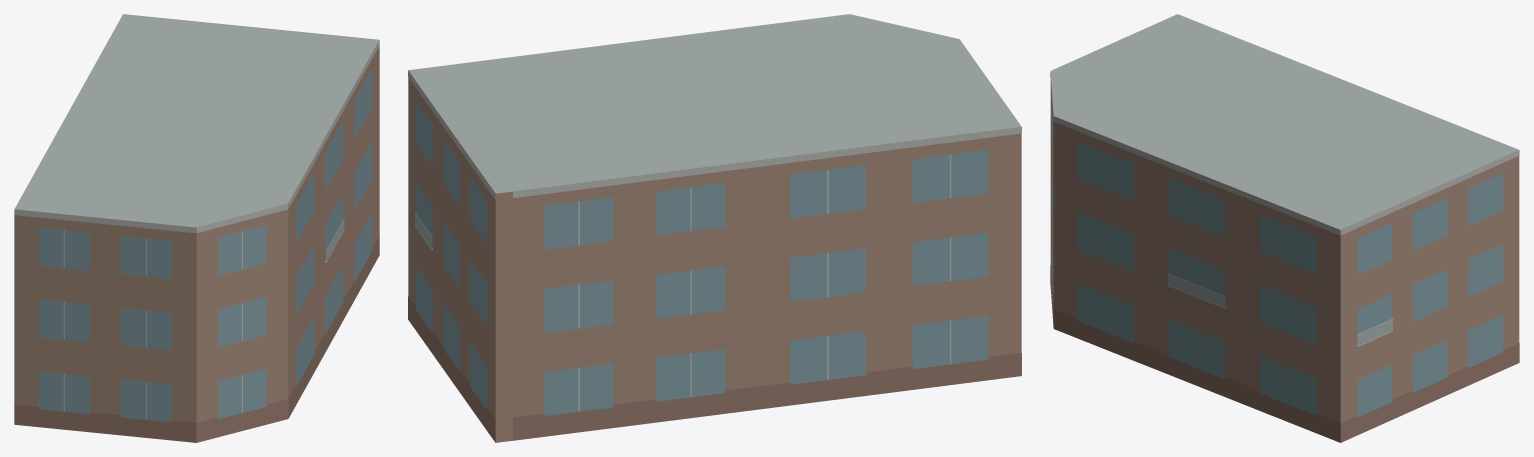
The model's file is survey-upis-32840950.glb.
The picture shows the model from 3 angles, left to right: view 1: azimuth 30°, elevation 25°; view 2: azimuth 150°, elevation 25°; view 3: azimuth 270°, elevation 25°; orthographic projection. The views are drawn at different scales.
Visible parts, largest first — view 1: survey-upis-32840950.tmp; view 2: survey-upis-32840950.tmp; view 3: survey-upis-32840950.tmp.
Boxes of the visible parts, x1=… form: survey-upis-32840950.tmp: x1=14, y1=14, x2=379, y2=442; survey-upis-32840950.tmp: x1=408, y1=14, x2=1021, y2=442; survey-upis-32840950.tmp: x1=1050, y1=14, x2=1519, y2=442.
Size of the model in its own units: 19.92 by 9.15 by 18.27.
